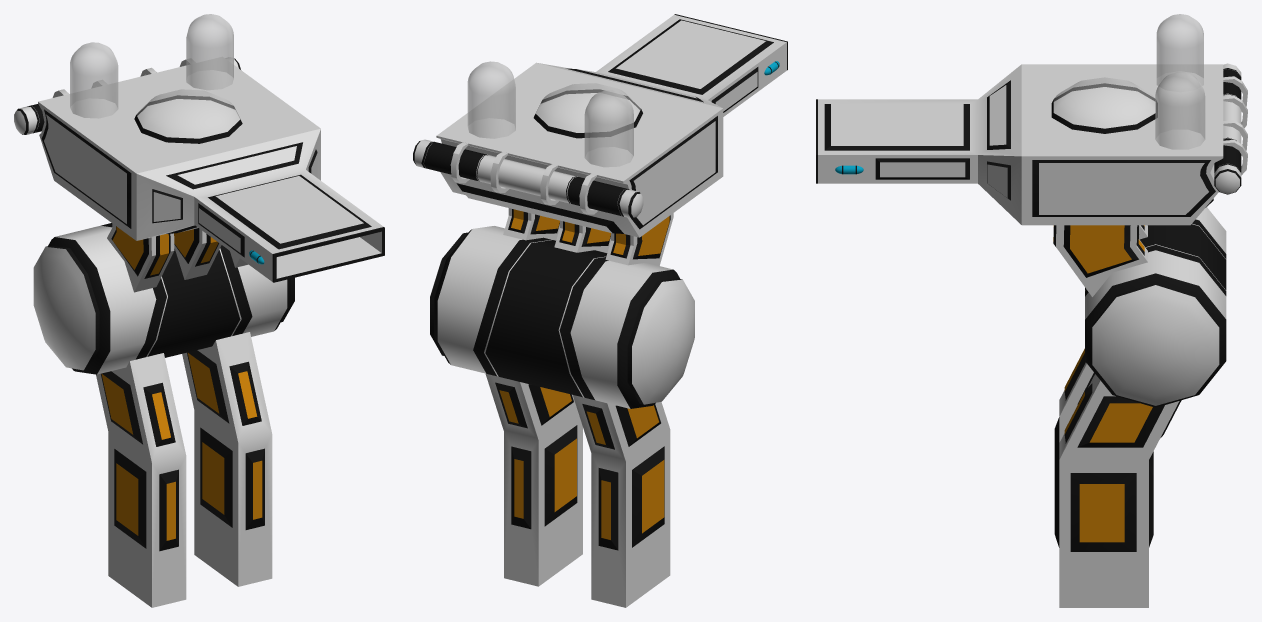
File: tower_slow_asset.fbx
3 renders of one model, left to right at view 1: azimuth 30°, elevation 25°; view 2: azimuth 150°, elevation 25°; view 3: azimuth 270°, elevation 25°, orthographic. The views are drawn at different scales.
Visible parts, largest first — view 1: slow_tower_bottom, slow_tower_top; view 2: slow_tower_bottom, slow_tower_top; view 3: slow_tower_top, slow_tower_bottom.
Part boxes in pixels (x1,y1,x2,y2): slow_tower_bottom: [33, 223, 294, 607]; slow_tower_top: [14, 14, 384, 292]; slow_tower_bottom: [430, 226, 694, 607]; slow_tower_top: [413, 14, 787, 265]; slow_tower_top: [816, 14, 1247, 296]; slow_tower_bottom: [1054, 207, 1226, 607].
Bounding box in the file's own units: 101 × 218 × 160.
